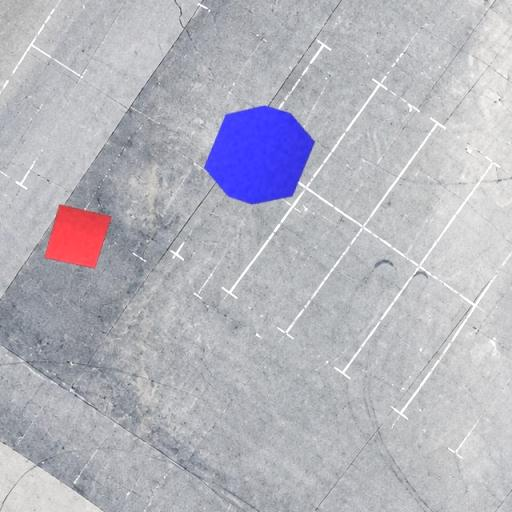RED_SQUARE: (43, 203, 113, 269)
